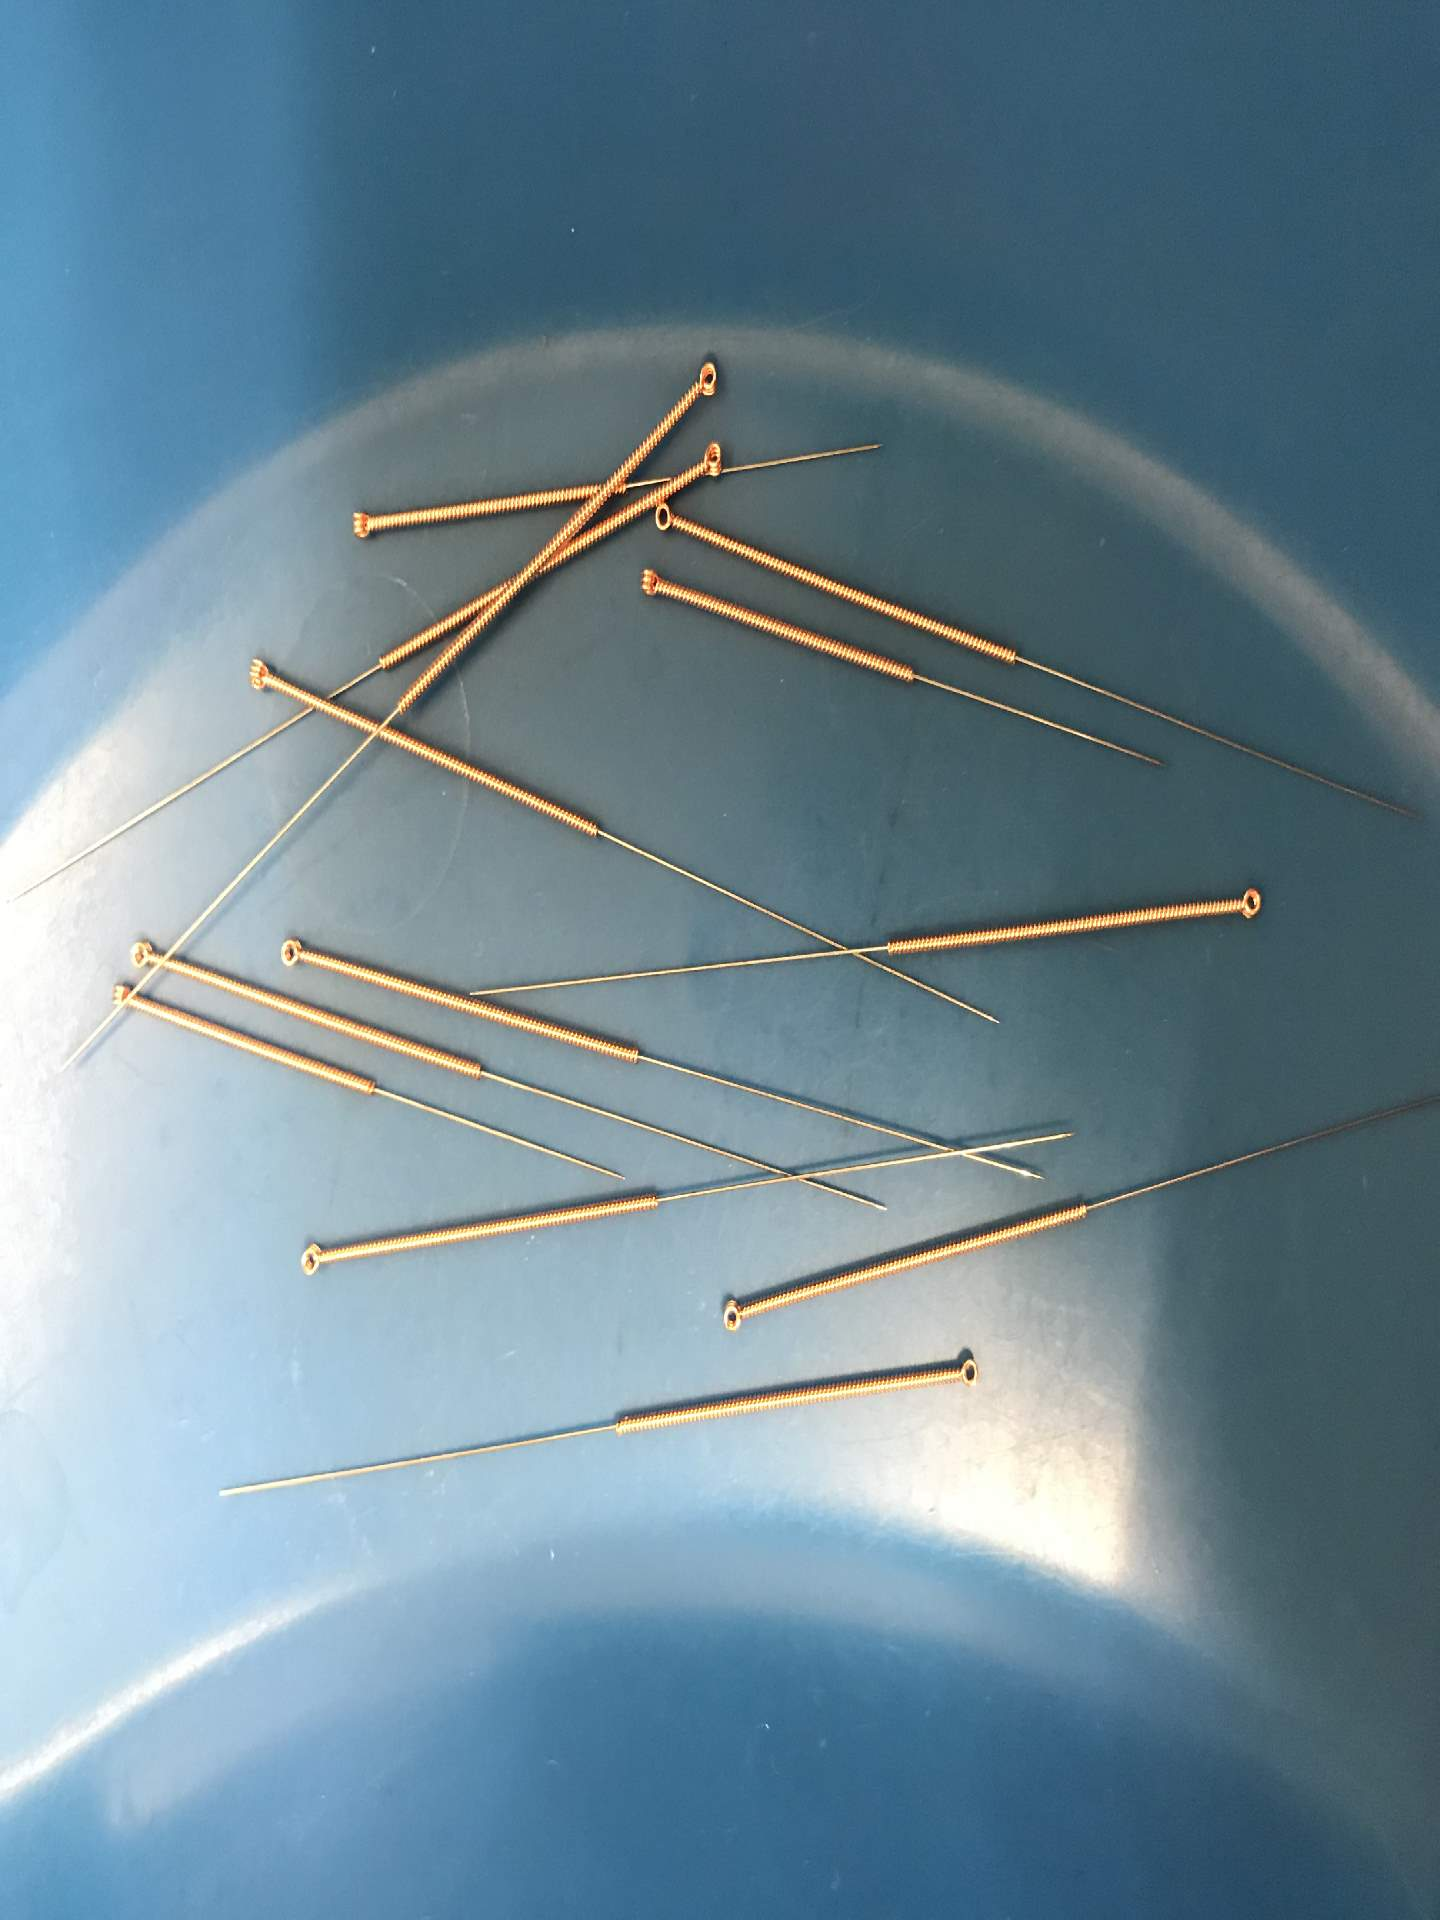needle: (1219, 875, 1274, 931), (234, 649, 284, 705), (708, 1287, 758, 1342), (103, 968, 150, 1023), (268, 925, 315, 980), (684, 351, 729, 407), (691, 437, 737, 490), (339, 500, 386, 550), (629, 558, 675, 609), (121, 931, 169, 978), (942, 1349, 988, 1395), (290, 1237, 331, 1284), (650, 497, 691, 541)
